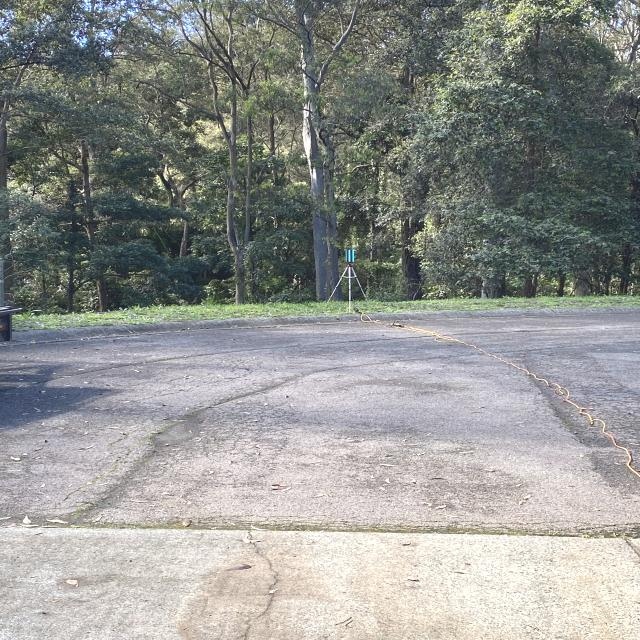matrix: (344, 249, 355, 263)
